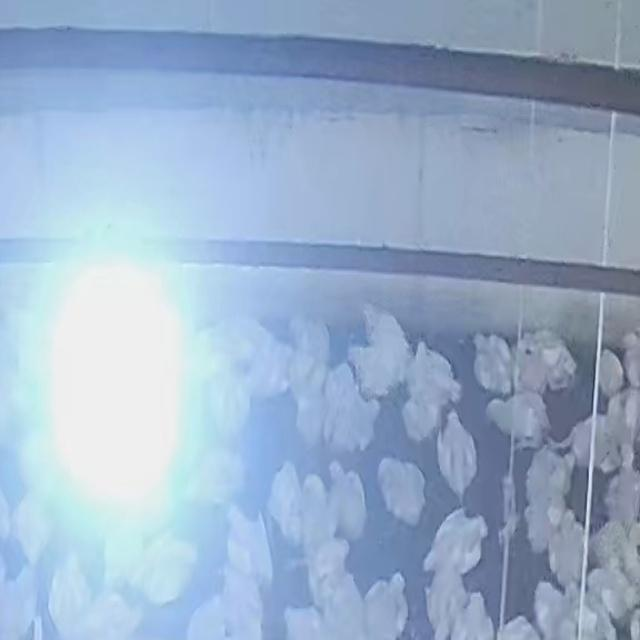chicken: (348, 306, 412, 398), (127, 530, 198, 606), (199, 355, 254, 443), (422, 507, 489, 578), (404, 340, 462, 420), (282, 314, 330, 404), (224, 504, 274, 589), (236, 324, 294, 397), (48, 552, 96, 636), (315, 568, 370, 638), (376, 455, 428, 526), (324, 461, 368, 544), (524, 447, 570, 525), (184, 446, 240, 510), (436, 409, 475, 500), (422, 564, 468, 640), (294, 467, 332, 557), (267, 458, 306, 544), (485, 389, 549, 441), (327, 396, 381, 455), (584, 562, 632, 628), (75, 586, 138, 636), (11, 490, 53, 564), (220, 570, 263, 640), (310, 534, 354, 600), (0, 563, 39, 636), (293, 374, 331, 448), (548, 518, 586, 591), (363, 578, 408, 639), (593, 520, 638, 581), (474, 329, 516, 394), (323, 360, 357, 439), (603, 388, 640, 456), (536, 338, 582, 392), (451, 590, 498, 640), (400, 393, 444, 446), (571, 416, 613, 470), (522, 491, 558, 552), (533, 580, 571, 636), (185, 595, 231, 640), (609, 466, 640, 526), (516, 344, 552, 395), (594, 348, 626, 397), (288, 605, 324, 637), (486, 397, 515, 436), (576, 597, 603, 637), (621, 333, 640, 389)
